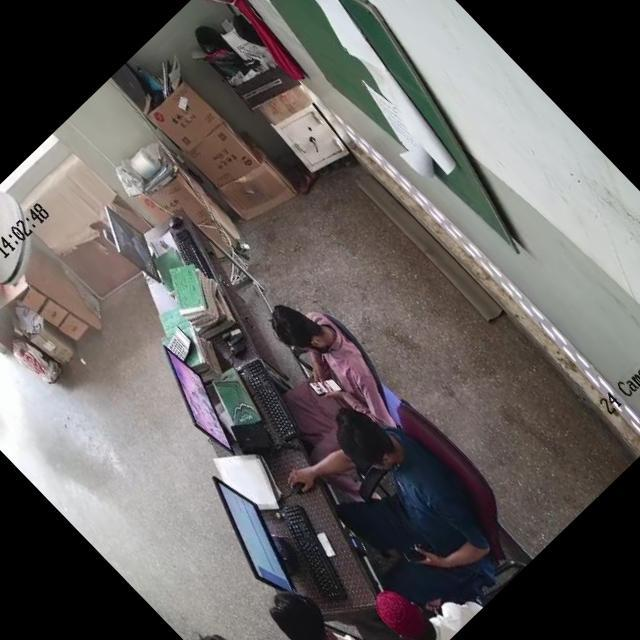person: (295, 395, 501, 603), (237, 289, 393, 446), (245, 568, 410, 640), (368, 555, 480, 640), (190, 603, 342, 640)
